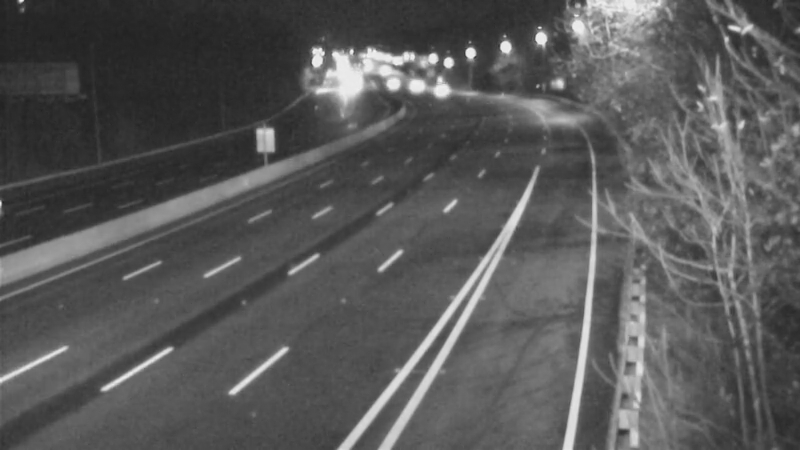vehicle: (364, 59, 414, 109), (391, 61, 441, 111), (417, 66, 467, 116)
